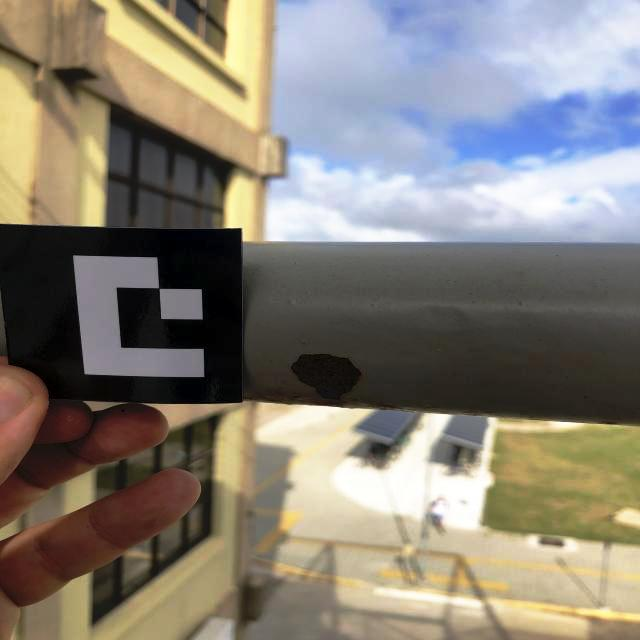Corrosion: (289, 353, 362, 401)
